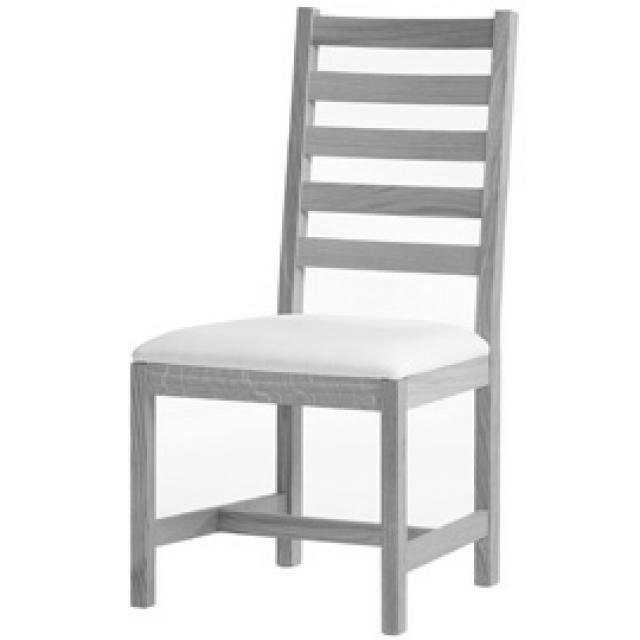chair: (128, 9, 522, 633)
